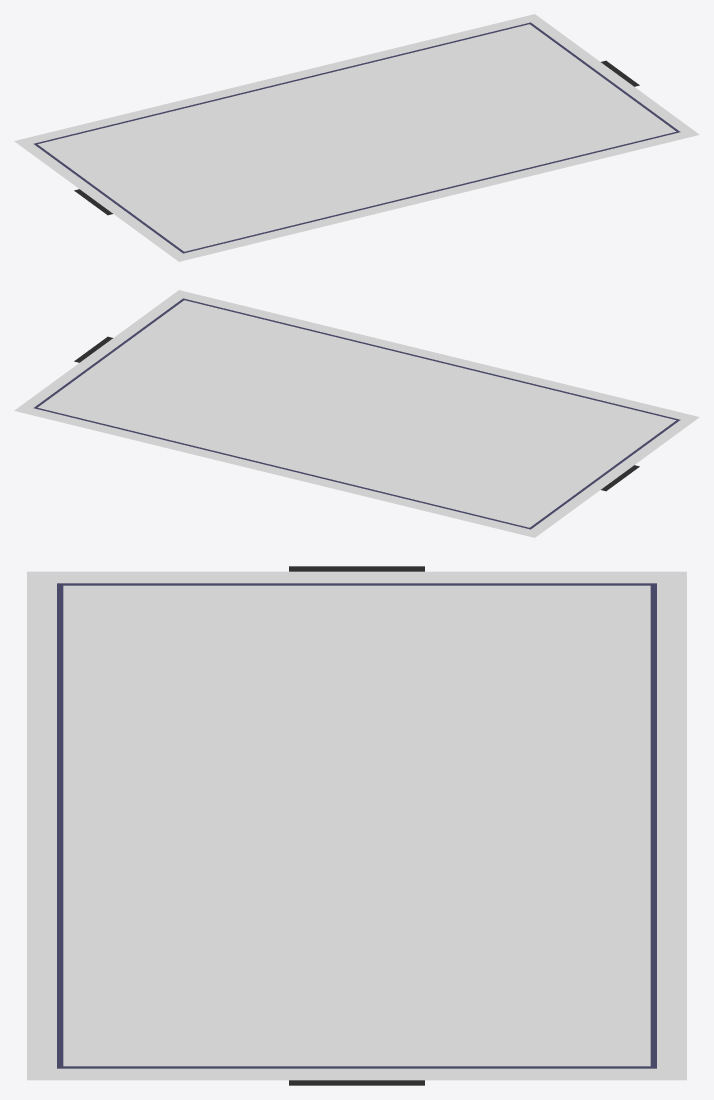
The model's file is Commons_Floor.fbx.
The picture shows the model from 3 angles, top to bottom: view 1: azimuth 30°, elevation 25°; view 2: azimuth 150°, elevation 25°; view 3: azimuth 270°, elevation 25°; orthographic projection. The views are drawn at different scales.
Parts seen in each view (by area): view 1: Commons_Floor; view 2: Commons_Floor; view 3: Commons_Floor.
Boxes of the visible parts, box(x1,y1,x2,y2) form: Commons_Floor: box(14, 14, 699, 261); Commons_Floor: box(14, 290, 699, 537); Commons_Floor: box(27, 566, 686, 1085).
Size of the model in its own units: 7244 by 0.000244 by 3890.
